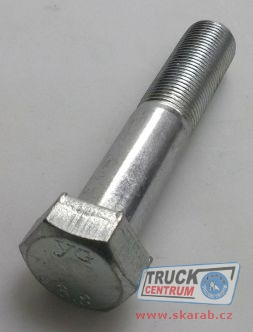screw: (18, 19, 237, 310)
